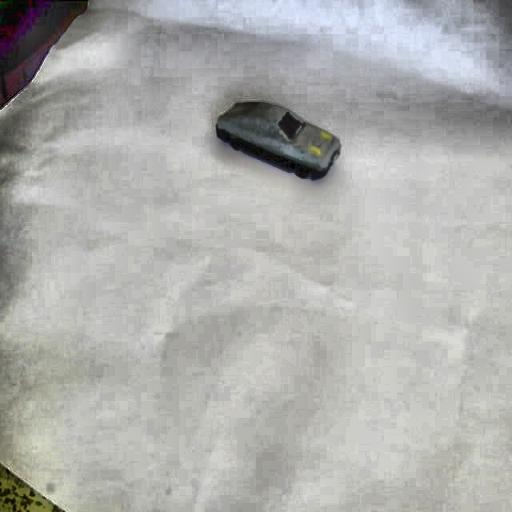normal_car: (208, 93, 342, 189)
